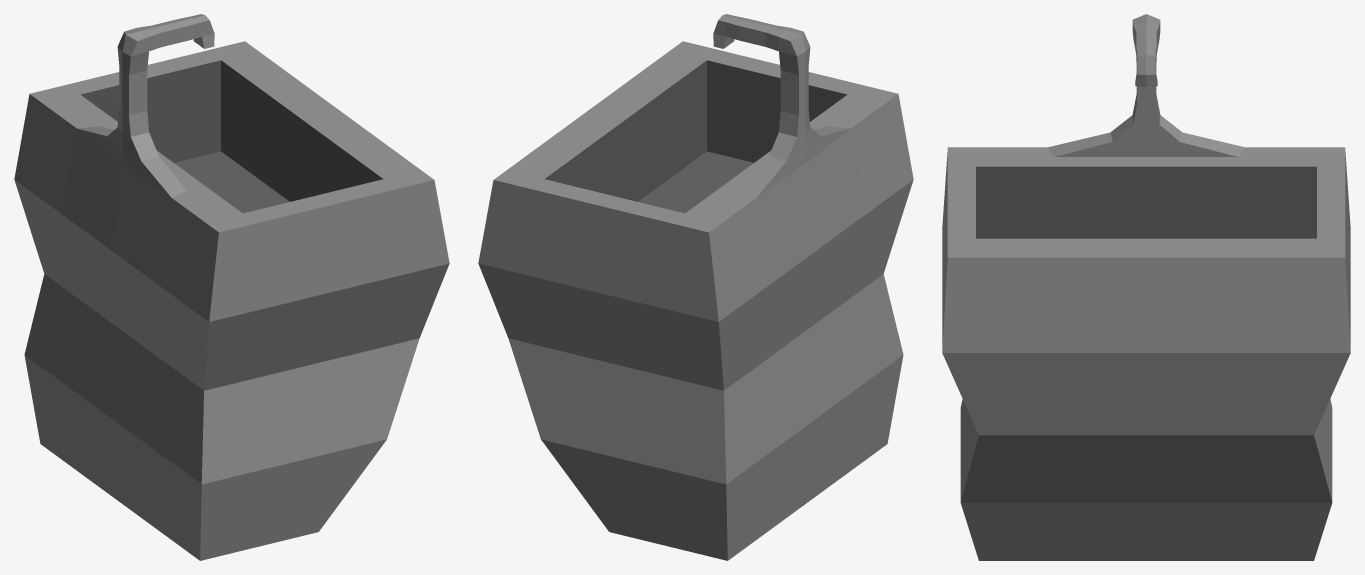
The model's file is Props_Bathroom_Sink.fbx.
3 renders of one model, left to right at view 1: azimuth 30°, elevation 25°; view 2: azimuth 150°, elevation 25°; view 3: azimuth 270°, elevation 25°, orthographic. The views are drawn at different scales.
Visible parts, largest first — view 1: Cube.001; view 2: Cube.001; view 3: Cube.001.
Part boxes in pixels (x1,y1,x2,y2): Cube.001: (14,14,449,560); Cube.001: (478,14,913,560); Cube.001: (942,14,1350,560).
Size of the model in its own units: 223 by 414 by 313.
Materials: 1 (1 with a texture image).
